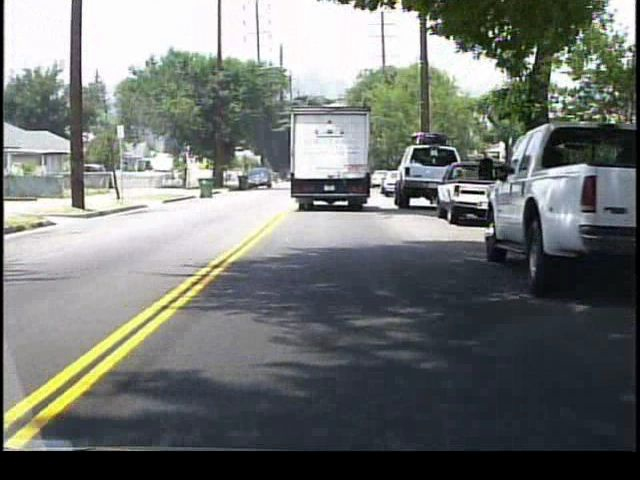person: (182, 164, 192, 189)
